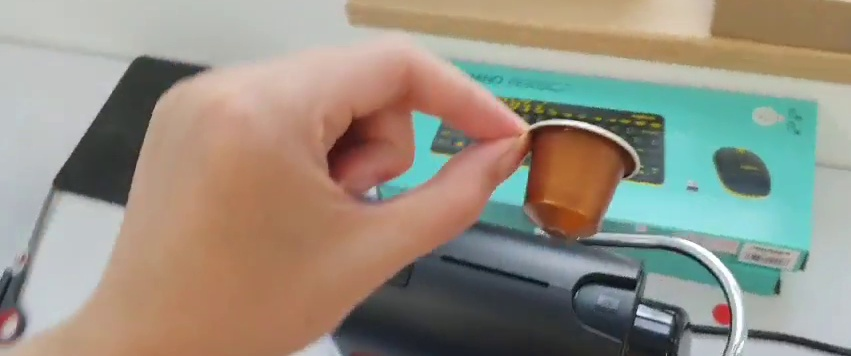capsule_3: (519, 118, 637, 242)
